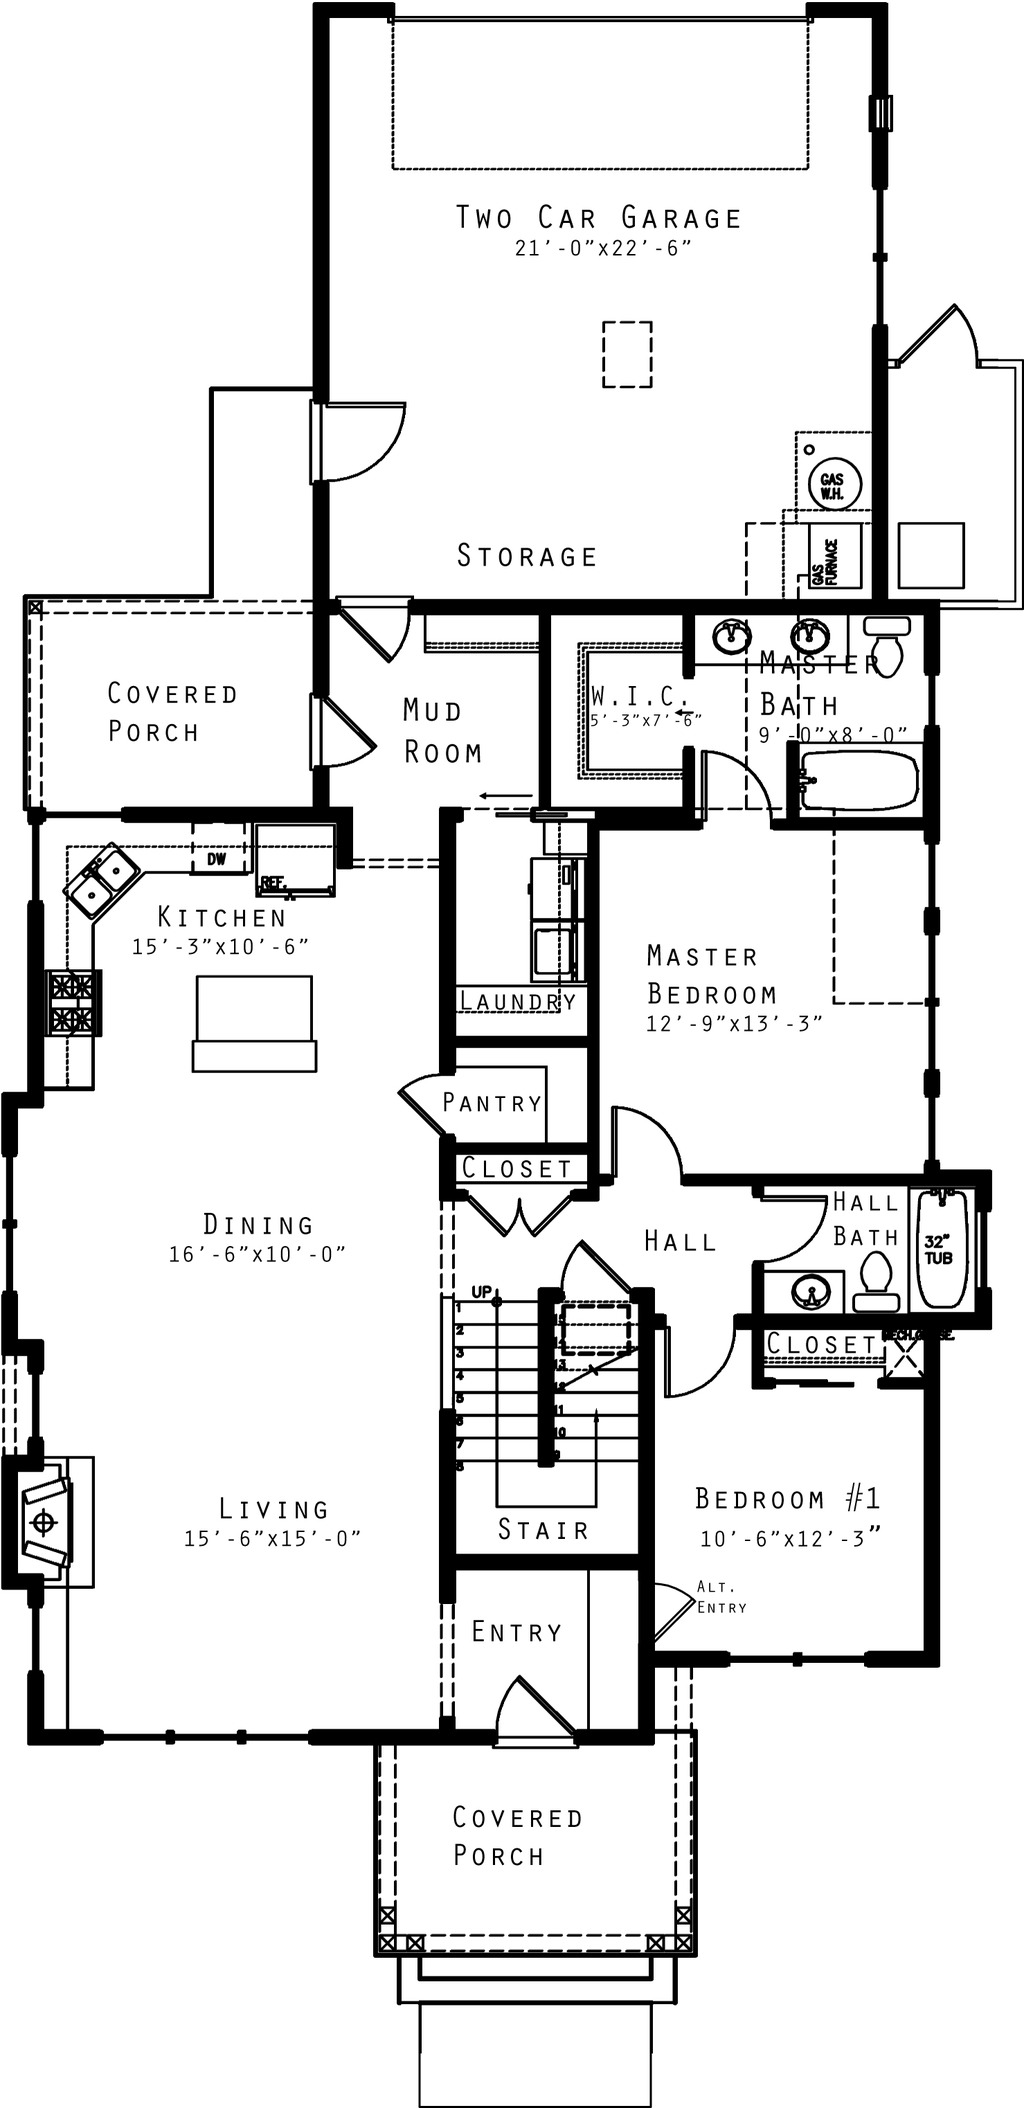door: (302, 384, 423, 501), (486, 1662, 593, 1769), (642, 1316, 767, 1402), (687, 739, 787, 842), (590, 1096, 697, 1186), (447, 1176, 583, 1246), (890, 305, 993, 395), (327, 586, 437, 670), (753, 1188, 843, 1276), (396, 1062, 500, 1129), (300, 696, 378, 782), (640, 1580, 697, 1652)
large_sink: (873, 616, 923, 692), (847, 1246, 900, 1312)
small_sink: (697, 609, 853, 670), (753, 1266, 843, 1330)
stairs: (457, 1289, 642, 1580)
tub: (783, 729, 923, 825), (921, 1159, 993, 1330)
twin_sink: (34, 829, 163, 946)
